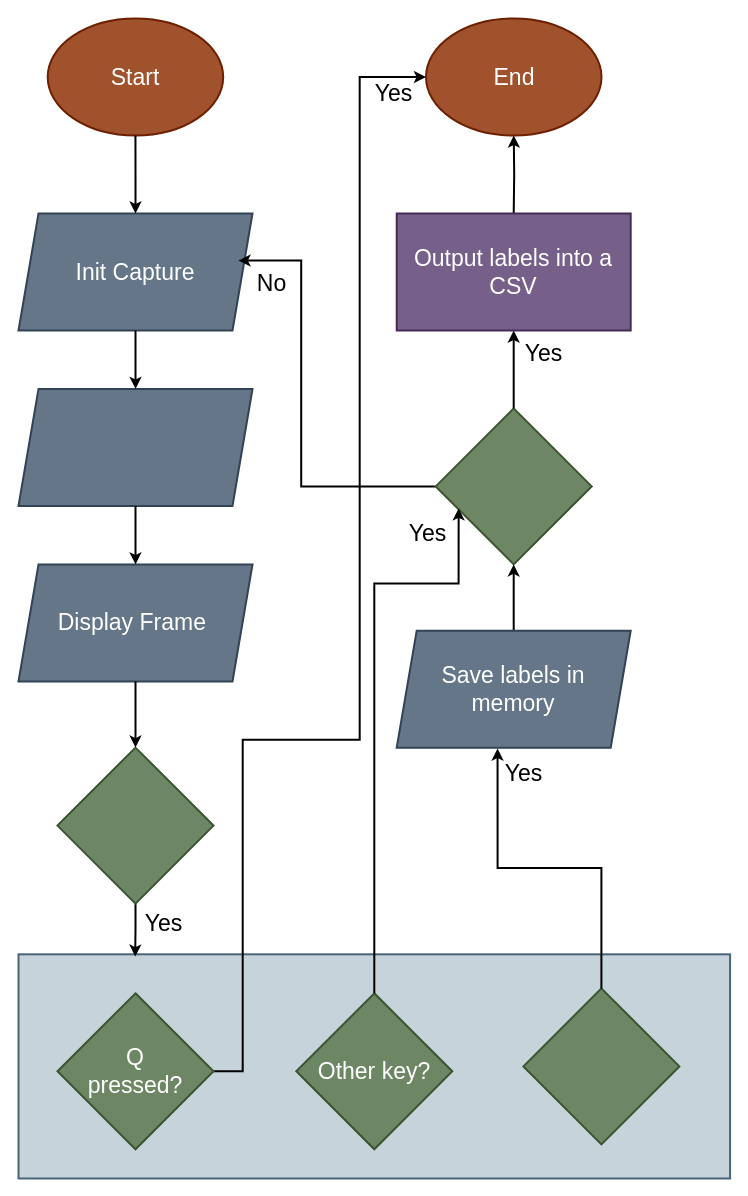
This 748x1196 diagram has some shape labels left out. Here are the shapes that lost their labels. From the top down, the centre of each, then its label:
At (135,446): "Get next Frame".
At (513,486): "Last frame?".
At (135,825): "Key pressed?".
At (601,1066): "Z? S? J? F pressed?".
